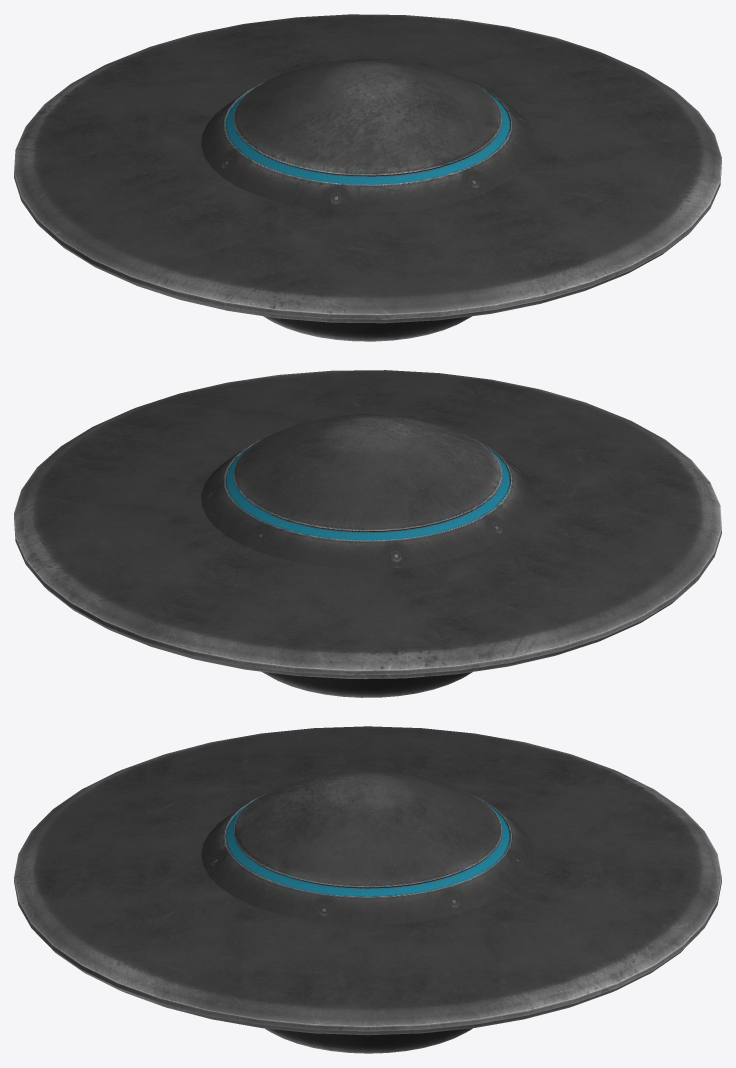
Rendered from UFO.obj.
3 renders of one model, top to bottom at view 1: azimuth 30°, elevation 25°; view 2: azimuth 150°, elevation 25°; view 3: azimuth 270°, elevation 25°, orthographic.
Parts seen in each view (by area): view 1: Circle; view 2: Circle; view 3: Circle.
Boxes of the visible parts, left/top/right/bottom form: Circle: left=14, top=14, right=721, bottom=341; Circle: left=14, top=370, right=721, bottom=697; Circle: left=14, top=726, right=721, bottom=1053.
Bounding box in the file's own units: 5.89 × 2 × 5.89.
1 material, 1 textured.
